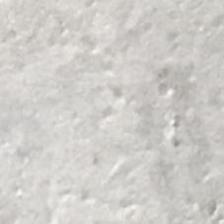Non_Crack: (16, 23, 224, 210)
